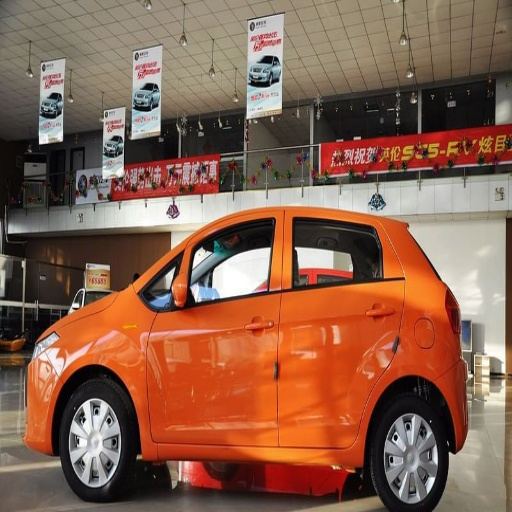back_left_door: (279, 212, 404, 446)
